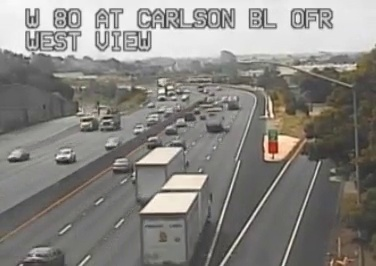car: (26, 246, 64, 266), (112, 158, 131, 173), (146, 136, 161, 149)
truck: (139, 173, 210, 266), (135, 147, 185, 206)
